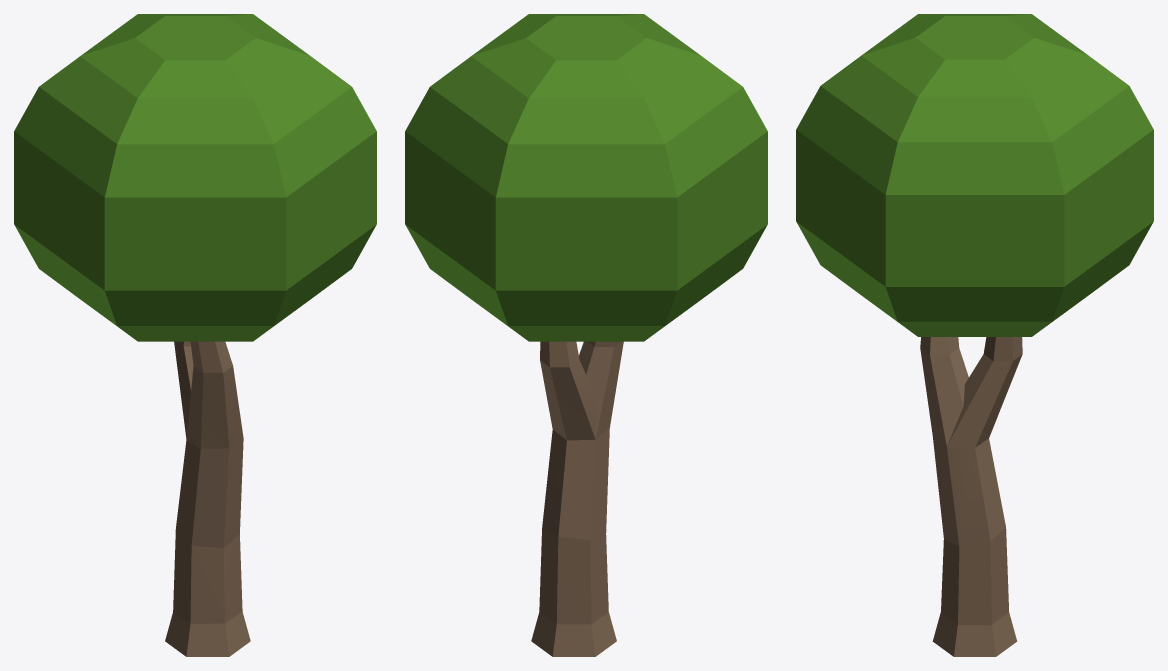
Rendered from Hilly_Prop_Tree_Oak_2.obj.
3 views of the same model, side by side, from view 1: azimuth 30°, elevation 25°; view 2: azimuth 150°, elevation 25°; view 3: azimuth 270°, elevation 25° (orthographic).
Visible parts, largest first — view 1: object2, object1; view 2: object2, object1; view 3: object2, object1.
Boxes of the visible parts, x1,y1,x2,y2 form: object2: [14, 14, 376, 341]; object1: [165, 341, 250, 656]; object2: [405, 14, 767, 341]; object1: [531, 341, 623, 656]; object2: [796, 14, 1153, 336]; object1: [920, 337, 1022, 656].
Bounding box in the file's own units: 2.2 × 4.68 × 2.54.
